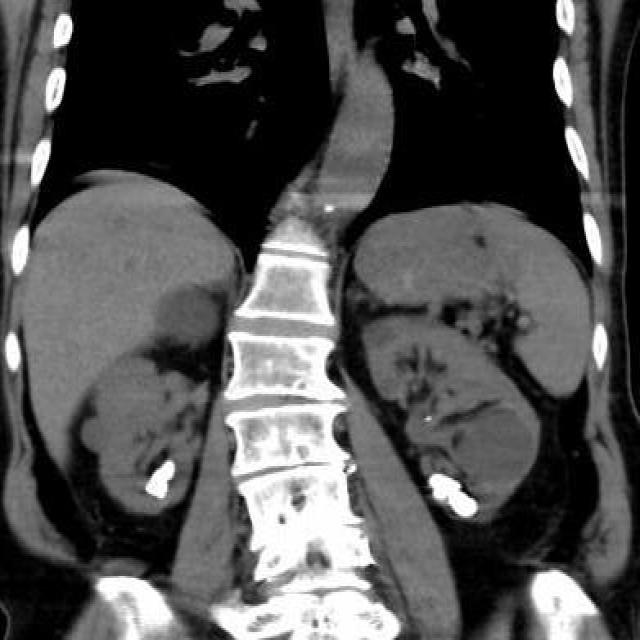Tas_Var: (139, 454, 180, 504), (427, 471, 465, 501), (446, 488, 480, 520), (426, 413, 434, 427)
